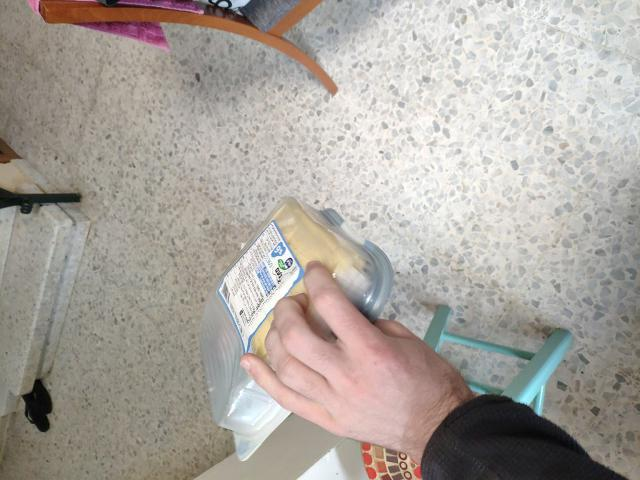cheese: (214, 166, 342, 462)
